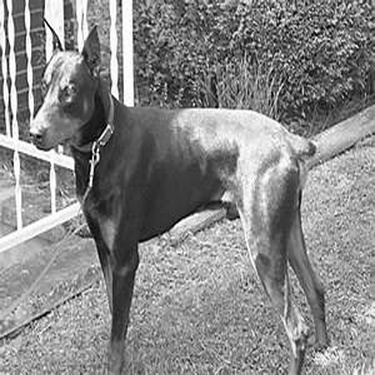dog: (32, 5, 333, 372)
